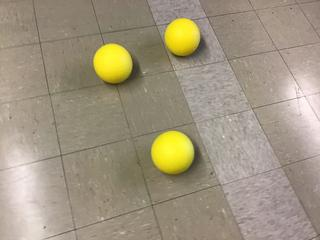power_cell: (151, 129, 198, 176), (91, 43, 139, 85), (163, 13, 203, 61)
